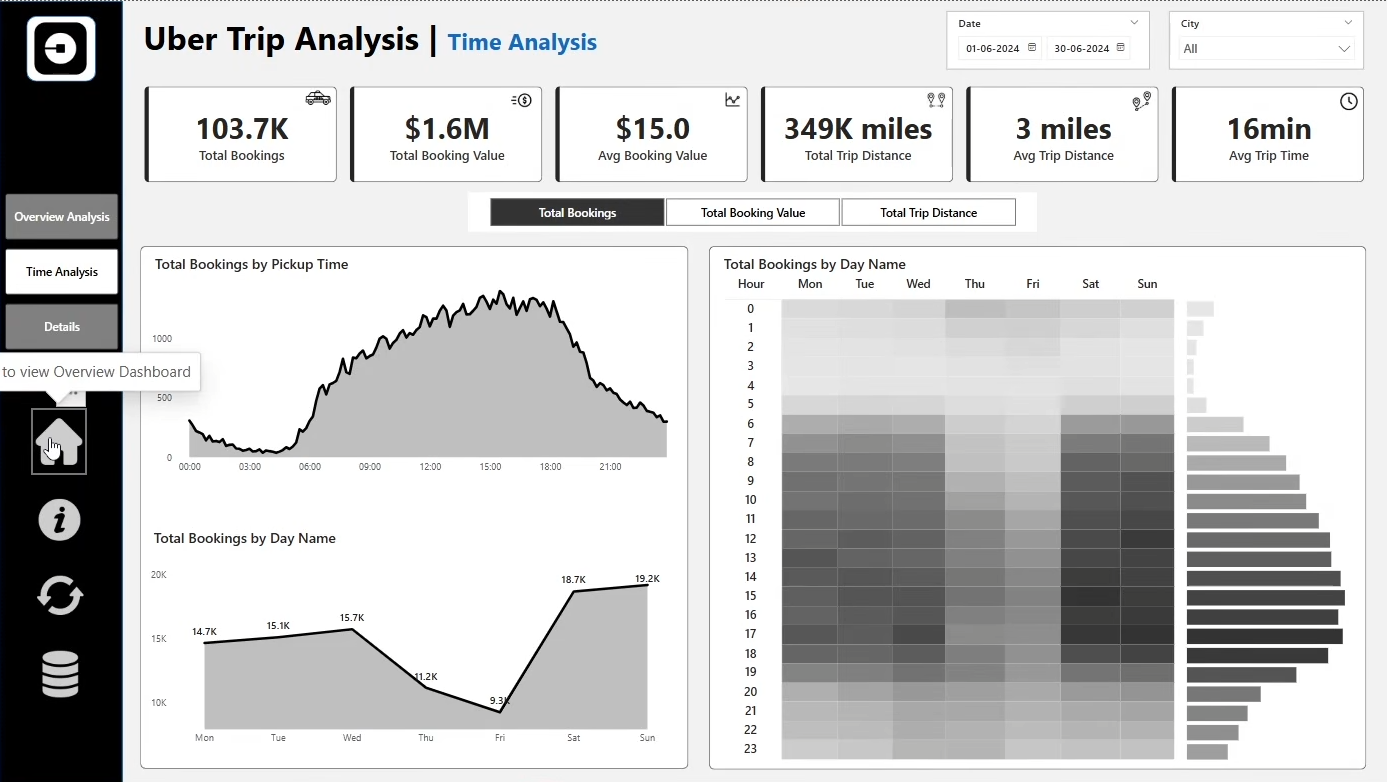

What the dashboard file says about the page in this screenshot:
{"tool":"powerbi","page":{"name":"Time Analysis","canvas":[1600,900],"ordinal":1},"visuals":[{"type":"shape","box":[0,0,142,900.5],"z":0},{"type":"textbox","box":[142.4,0,670.7,60],"z":1000},{"type":"cardVisual","fields":{"Data":["Trip Details.Total Bookings","Trip Details.Total Booking Amount","Trip Details.Average Booking Value","Trip Details.Total Trip Distance","Trip Details.Average Trip Distance","Trip Details.Average Trip Time"]},"box":[141.5,93.3,1458.5,119.7],"z":2000},{"type":"image","box":[575.3,93.3,38.9,40.4],"z":3000},{"type":"image","box":[1278.2,98,80.9,40.4],"z":4000},{"type":"image","box":[1034,93.3,76.2,38.9],"z":5000},{"type":"image","box":[1525.4,94.9,74.6,35.8],"z":6000},{"type":"image","box":[796.1,98,74.6,35.8],"z":7000},{"type":"shape","box":[143.1,279.9,630,600],"z":8000},{"type":"slicer","fields":{"Values":["Dynamic Measure.Dynamic Measure"]},"box":[399.6,227,943.9,34.2],"z":9000},{"type":"slicer","title":"Date","fields":{"Values":["Calendar Table.Date"]},"box":[1118,0,225.5,77.7],"z":10000},{"type":"slicer","title":"Date","fields":{"Values":["Location Table.City"]},"box":[1359,10.9,230.1,70],"z":11000},{"type":"areaChart","fields":{"Category":["Trip Details.Pickup Hour (HH MM SS) (bins)"],"Y":["Trip Details.Total Bookings"]},"box":[150.8,331.2,615,235],"z":12000},{"type":"cardVisual","fields":{"Data":["Trip Details.Title for by Pickup Time"]},"box":[150.8,290.8,348.3,40.4],"z":13000},{"type":"areaChart","fields":{"Category":["Calendar Table.Day Name"],"Y":["Trip Details.Total Bookings"]},"box":[150.8,608,595.5,248.8],"z":14000},{"type":"shape","box":[794.6,279.9,794.6,600.2],"z":15000},{"type":"cardVisual","fields":{"Data":["Trip Details.Title for by Day Name"]},"box":[150.8,567.6,348.3,40.4],"z":16000},{"type":"pivotTable","fields":{"Columns":["Calendar Table.Day Name"],"Rows":["Trip Details.Pickup Hour"],"Values":["Trip Details.Total Bookings"]},"box":[833.5,303.2,485.1,569.1],"z":17000},{"type":"barChart","fields":{"Category":["Trip Details.Pickup Hour"],"Y":["Trip Details.Total Bookings"]},"box":[1332.6,331.2,244.1,569.1],"z":18000},{"type":"cardVisual","fields":{"Data":["Trip Details.Title for by Hour & Time"]},"box":[799.2,279.9,348.3,40.4],"z":19000}]}

Visuals, with their boxes on the page's 1600x900 design canvas (x1, y1, x2, y2). These are canvas units, not pixel positions in the 1387x782 screenshot, which may show the page scaled, cropped or inside an application window:
shape: region(0, 0, 142, 900)
textbox: region(142, 0, 813, 60)
cardVisual - Trip Details.Total Bookings x Trip Details.Total Booking Amount: region(142, 93, 1600, 213)
image: region(575, 93, 614, 134)
image: region(1278, 98, 1359, 138)
image: region(1034, 93, 1110, 132)
image: region(1525, 95, 1600, 131)
image: region(796, 98, 871, 134)
shape: region(143, 280, 773, 880)
slicer - Dynamic Measure.Dynamic Measure: region(400, 227, 1344, 261)
"Date" slicer: region(1118, 0, 1344, 78)
"Date" slicer: region(1359, 11, 1589, 81)
areaChart - Trip Details.Pickup Hour (HH MM SS) (bins) x Trip Details.Total Bookings: region(151, 331, 766, 566)
cardVisual - Trip Details.Title for by Pickup Time: region(151, 291, 499, 331)
areaChart - Calendar Table.Day Name x Trip Details.Total Bookings: region(151, 608, 746, 857)
shape: region(795, 280, 1589, 880)
cardVisual - Trip Details.Title for by Day Name: region(151, 568, 499, 608)
pivotTable - Calendar Table.Day Name x Trip Details.Pickup Hour: region(834, 303, 1319, 872)
barChart - Trip Details.Pickup Hour x Trip Details.Total Bookings: region(1333, 331, 1577, 900)
cardVisual - Trip Details.Title for by Hour & Time: region(799, 280, 1148, 320)
